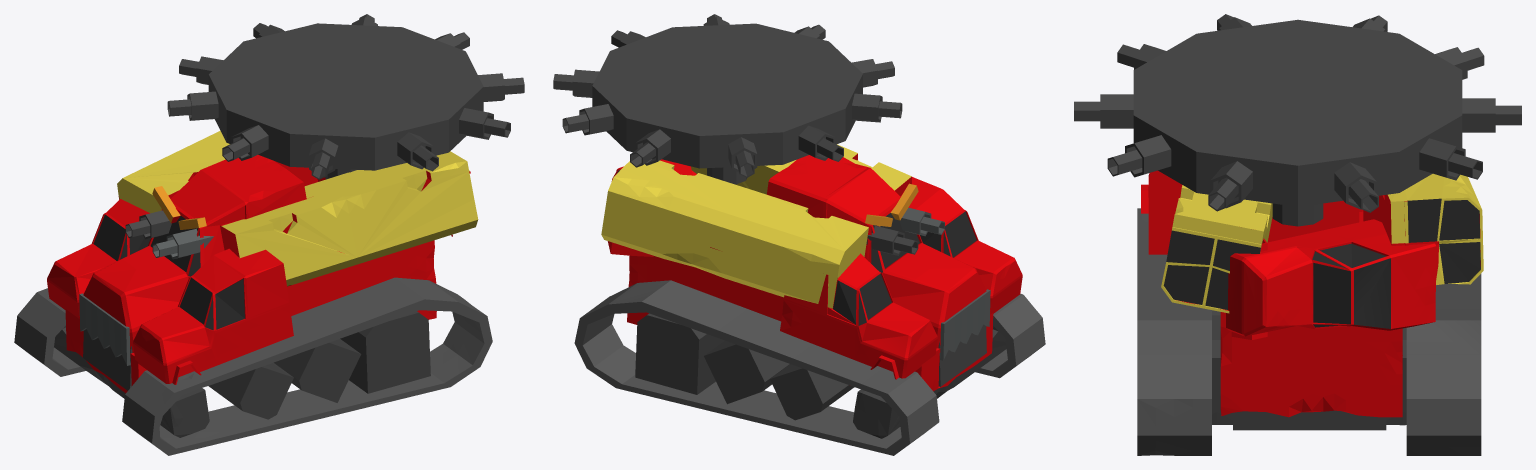
The model's file is Bang slong.fbx.
3 renders of one model, left to right at view 1: azimuth 30°, elevation 25°; view 2: azimuth 150°, elevation 25°; view 3: azimuth 270°, elevation 25°, orthographic. The views are drawn at different scales.
Visible parts, largest first — view 1: Boss_Base, Carousel, Boss_Tread_Right, Bus_Boi, Bus_Boi3, Boss_Tread_Left, Bus_Boi4, Bus_Boi5, Truck_Jaw_Top, Truck_Jaw_Bottom, Eye_Cannon_Right, Eye_Cannon_Left; view 2: Boss_Base, Carousel, Boss_Tread_Left, Bus_Boi, Bus_Boi3, Boss_Tread_Right, Bus_Boi4, Bus_Boi5, Truck_Jaw_Top, Truck_Jaw_Bottom, Eye_Cannon_Left, Eye_Cannon_Right; view 3: Carousel, Boss_Base, Boss_Tread_Right, Boss_Tread_Left, Bus_Boi.
Boxes of the visible parts, x1=… form: Boss_Base: x1=47, y1=130, x2=478, y2=393; Carousel: x1=167, y1=14, x2=524, y2=179; Boss_Tread_Right: x1=122, y1=277, x2=492, y2=455; Bus_Boi: x1=340, y1=311, x2=430, y2=393; Bus_Boi3: x1=274, y1=339, x2=361, y2=402; Boss_Tread_Left: x1=14, y1=288, x2=85, y2=376; Bus_Boi4: x1=208, y1=362, x2=293, y2=419; Bus_Boi5: x1=54, y1=325, x2=209, y2=437; Truck_Jaw_Top: x1=79, y1=293, x2=130, y2=365; Truck_Jaw_Bottom: x1=83, y1=329, x2=132, y2=390; Eye_Cannon_Right: x1=152, y1=228, x2=213, y2=259; Eye_Cannon_Left: x1=125, y1=210, x2=171, y2=239; Boss_Base: x1=601, y1=144, x2=1022, y2=391; Carousel: x1=553, y1=14, x2=902, y2=184; Boss_Tread_Left: x1=574, y1=280, x2=939, y2=455; Bus_Boi: x1=635, y1=313, x2=724, y2=394; Bus_Boi3: x1=704, y1=340, x2=789, y2=404; Boss_Tread_Right: x1=975, y1=293, x2=1045, y2=378; Bus_Boi4: x1=770, y1=364, x2=854, y2=420; Bus_Boi5: x1=853, y1=325, x2=1006, y2=438; Truck_Jaw_Top: x1=940, y1=289, x2=990, y2=360; Truck_Jaw_Bottom: x1=938, y1=324, x2=986, y2=386; Eye_Cannon_Left: x1=866, y1=225, x2=918, y2=255; Eye_Cannon_Right: x1=899, y1=207, x2=944, y2=236; Carousel: x1=1074, y1=14, x2=1521, y2=226; Boss_Base: x1=1141, y1=170, x2=1483, y2=417; Boss_Tread_Right: x1=1137, y1=208, x2=1211, y2=455; Boss_Tread_Left: x1=1406, y1=273, x2=1481, y2=455; Bus_Boi: x1=1212, y1=315, x2=1406, y2=430.
Size of the model in its own units: 5191 by 3277 by 3953.
